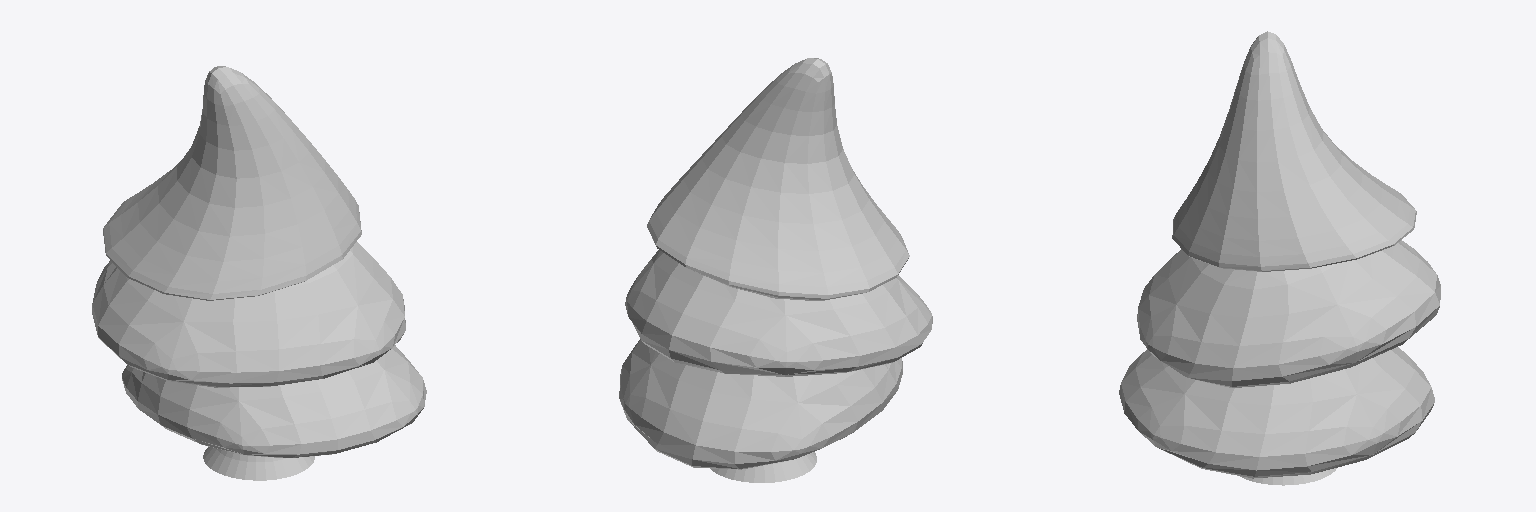
Rendered from tree6.obj.
The picture shows the model from 3 angles: view 1: azimuth 30°, elevation 25°; view 2: azimuth 150°, elevation 25°; view 3: azimuth 270°, elevation 25°; orthographic projection.
Parts seen in each view (by area): view 1: tree6; view 2: tree6; view 3: tree6.
Part boxes in pixels (x1,y1,x2,y2): tree6: (92, 66, 426, 480); tree6: (619, 58, 932, 482); tree6: (1119, 31, 1440, 485).
Bounding box in the file's own units: 3.16 × 4.24 × 3.04.